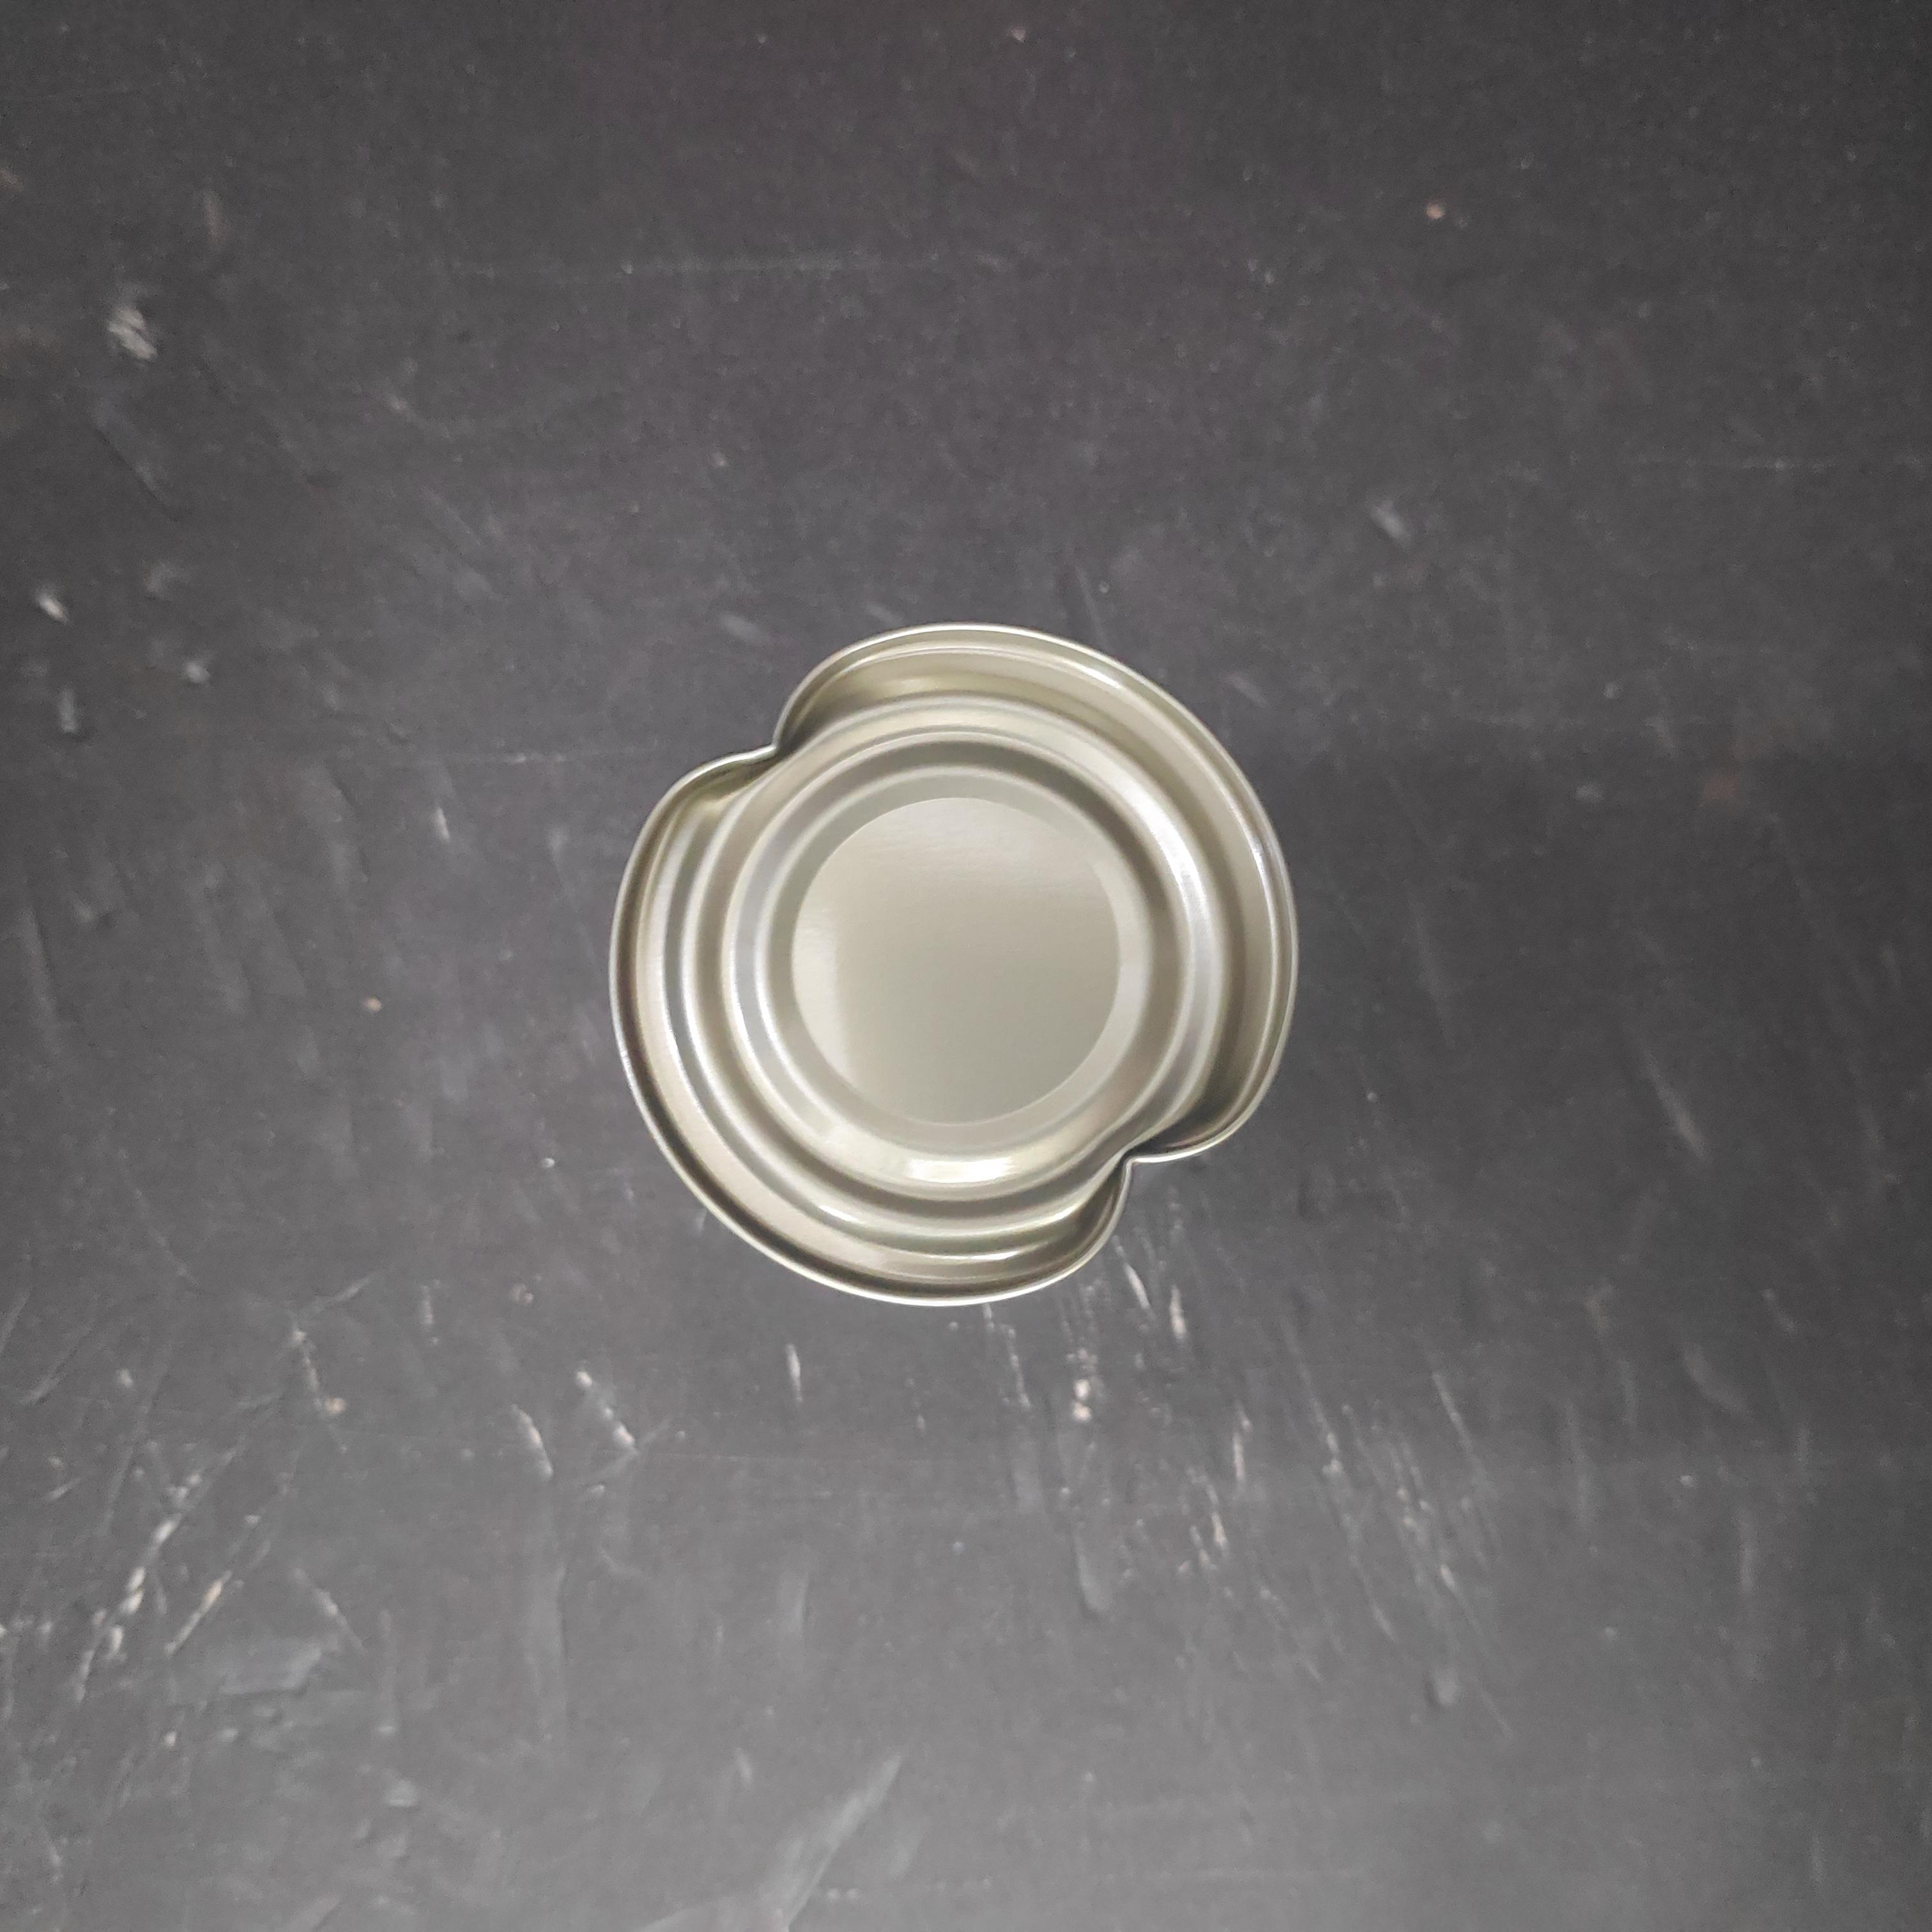Critical Defect: (598, 607, 1311, 1318)
